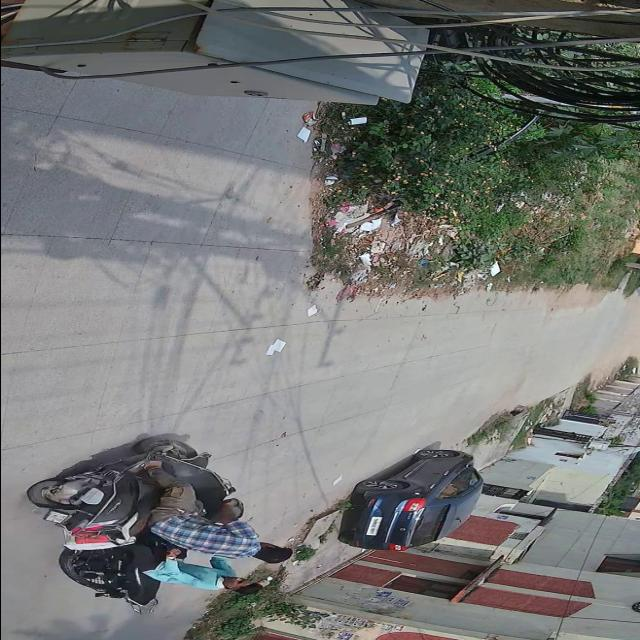accident: (4, 428, 296, 614)
